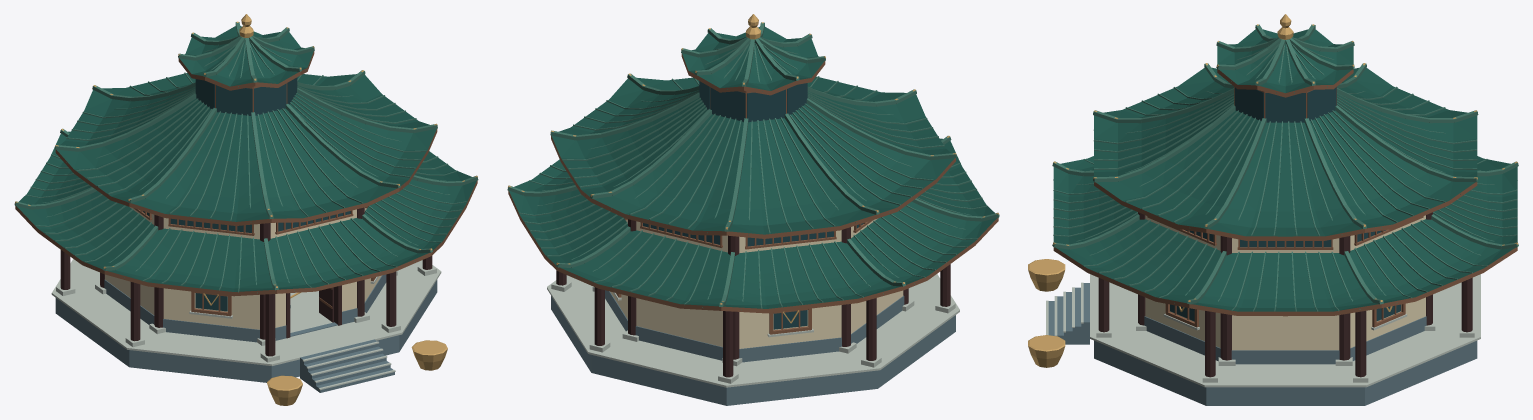
The model's file is alchemy_pavilion.glb.
The picture shows the model from 3 angles, left to right: view 1: azimuth 30°, elevation 25°; view 2: azimuth 150°, elevation 25°; view 3: azimuth 270°, elevation 25°; orthographic projection. The views are drawn at different scales.
Parts seen in each view (by area): view 1: AlchemyPavilion / Jade, AlchemyPavilion / TileLight, AlchemyPavilion / Coping, AlchemyPavilion / Stone, AlchemyPavilion / Cedar, AlchemyPavilion / Plaster, AlchemyPavilion / Timber, AlchemyPavilion / Window, AlchemyPavilion / Bronze; view 2: AlchemyPavilion / Jade, AlchemyPavilion / TileLight, AlchemyPavilion / Coping, AlchemyPavilion / Stone, AlchemyPavilion / Plaster, AlchemyPavilion / Cedar, AlchemyPavilion / Timber, AlchemyPavilion / Window, AlchemyPavilion / Bronze; view 3: AlchemyPavilion / Jade, AlchemyPavilion / TileLight, AlchemyPavilion / Coping, AlchemyPavilion / Stone, AlchemyPavilion / Plaster, AlchemyPavilion / Cedar, AlchemyPavilion / Timber, AlchemyPavilion / Window, AlchemyPavilion / Bronze.
Boxes of the visible parts, x1,y1,x2,y2 form: AlchemyPavilion / Jade: (16, 26, 476, 291); AlchemyPavilion / TileLight: (14, 22, 478, 293); AlchemyPavilion / Coping: (51, 259, 441, 390); AlchemyPavilion / Stone: (55, 274, 437, 392); AlchemyPavilion / Cedar: (15, 51, 477, 316); AlchemyPavilion / Plaster: (105, 207, 381, 329); AlchemyPavilion / Timber: (60, 207, 432, 356); AlchemyPavilion / Window: (142, 77, 350, 311); AlchemyPavilion / Bronze: (15, 14, 477, 405); AlchemyPavilion / Jade: (509, 27, 997, 308); AlchemyPavilion / TileLight: (507, 22, 999, 310); AlchemyPavilion / Coping: (547, 274, 959, 387); AlchemyPavilion / Stone: (551, 290, 955, 405); AlchemyPavilion / Plaster: (610, 218, 903, 348); AlchemyPavilion / Cedar: (508, 53, 998, 334); AlchemyPavilion / Timber: (556, 219, 950, 377); AlchemyPavilion / Window: (643, 81, 863, 329); AlchemyPavilion / Bronze: (508, 14, 999, 323); AlchemyPavilion / Jade: (1053, 29, 1517, 311); AlchemyPavilion / TileLight: (1052, 24, 1518, 311); AlchemyPavilion / Coping: (1046, 274, 1480, 387); AlchemyPavilion / Stone: (1048, 283, 1477, 405); AlchemyPavilion / Plaster: (1145, 215, 1425, 350); AlchemyPavilion / Cedar: (1053, 69, 1517, 327); AlchemyPavilion / Timber: (1098, 212, 1472, 377); AlchemyPavilion / Window: (1170, 87, 1400, 321); AlchemyPavilion / Bronze: (1028, 14, 1518, 367).
Bounding box in the file's own units: 17.1 × 12.57 × 17.98.
